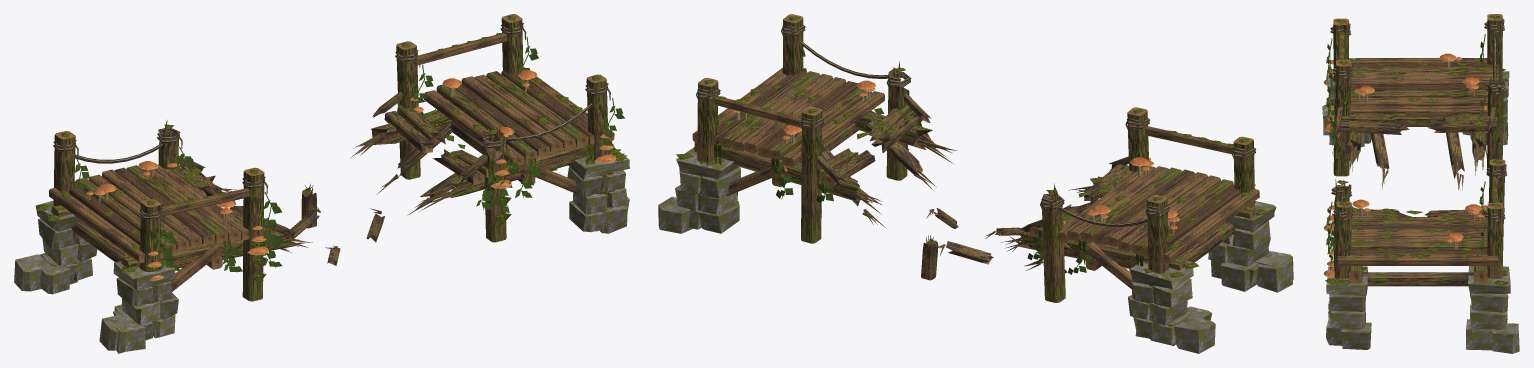
The model's file is SM_BrokenBridge_v2.glb.
The picture shows the model from 3 angles, left to right: view 1: azimuth 30°, elevation 25°; view 2: azimuth 150°, elevation 25°; view 3: azimuth 270°, elevation 25°; orthographic projection. The views are drawn at different scales.
Parts seen in each view (by area): view 1: SM_BrokenBridge_v2; view 2: SM_BrokenBridge_v2; view 3: SM_BrokenBridge_v2.
Boxes of the visible parts, box(x1,y1,x2,y2) form: SM_BrokenBridge_v2: box(14, 14, 629, 353); SM_BrokenBridge_v2: box(658, 14, 1293, 353); SM_BrokenBridge_v2: box(1322, 14, 1519, 353).
Size of the model in its own units: 11.89 by 3.22 by 4.23.
1 material, 1 textured.
